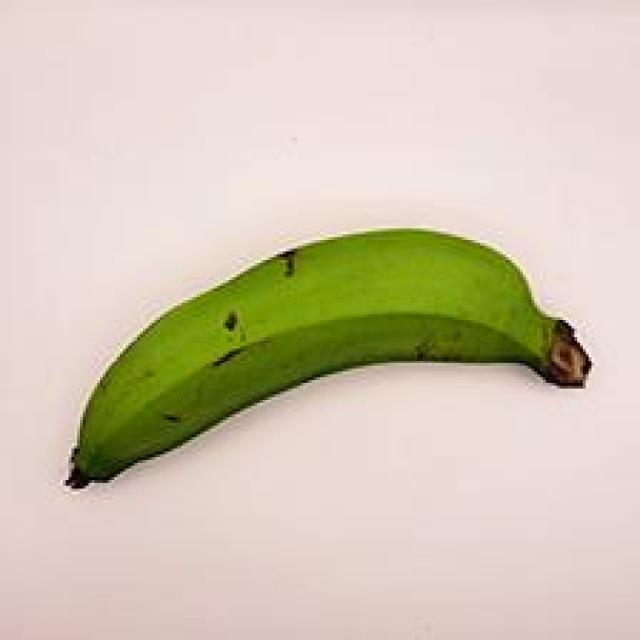Raw: (38, 177, 614, 501)
